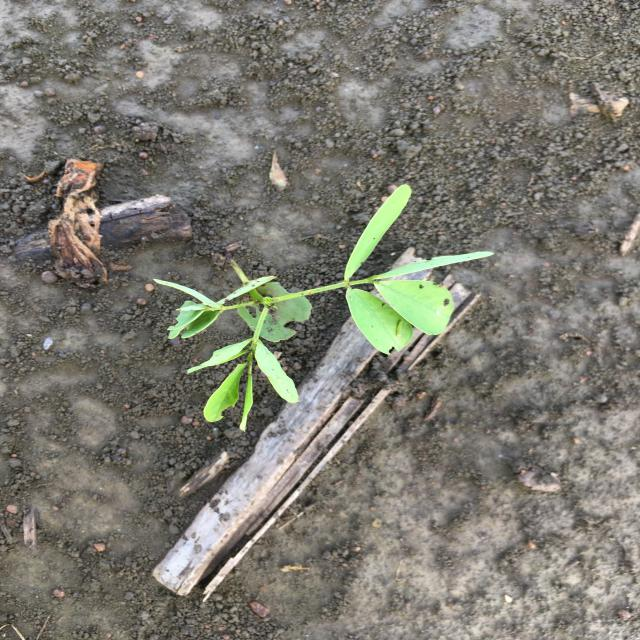Sicklepod: (151, 182, 499, 432)
